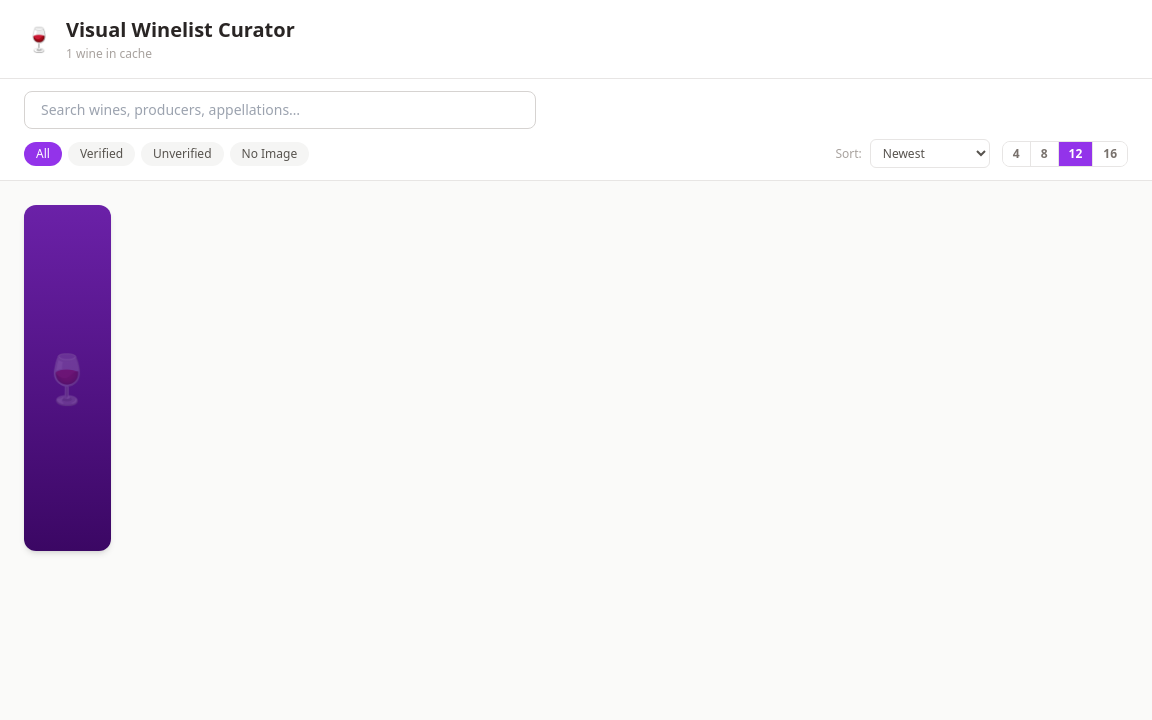
it: shows actionError when deleteWine rejects
Click the button named "Test Wine": [67, 378] box [24,205,110,551]
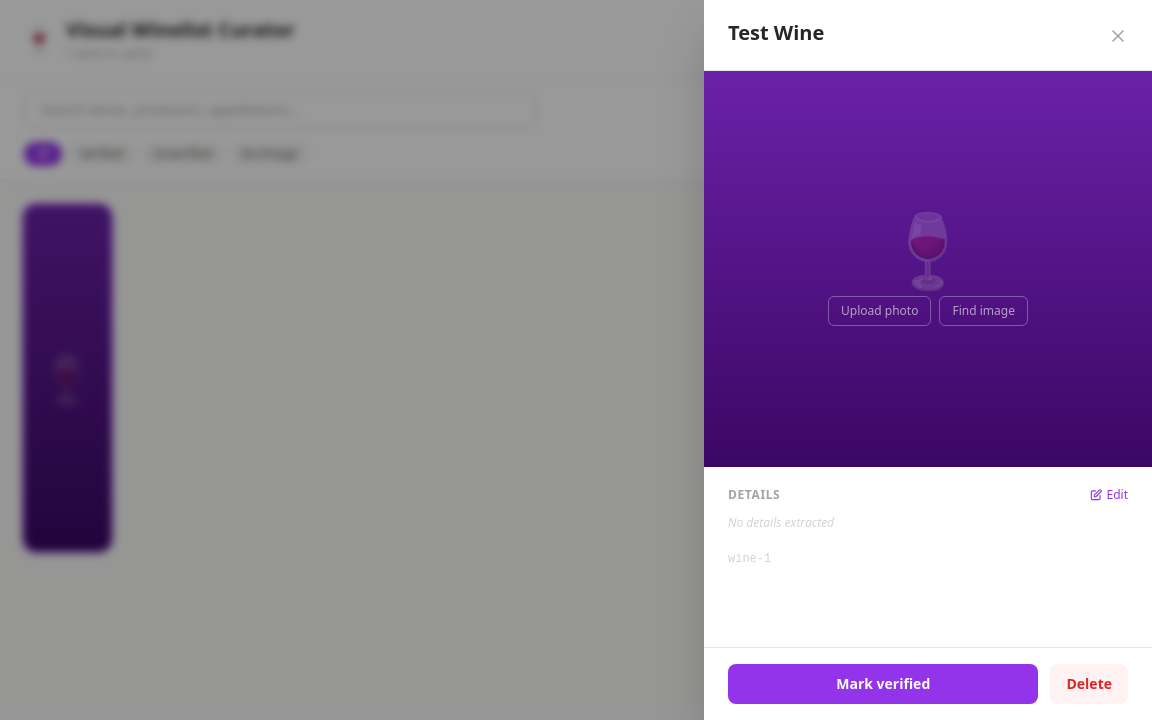
Click the button "Delete": [1089, 684] box [1050,664,1128,704]
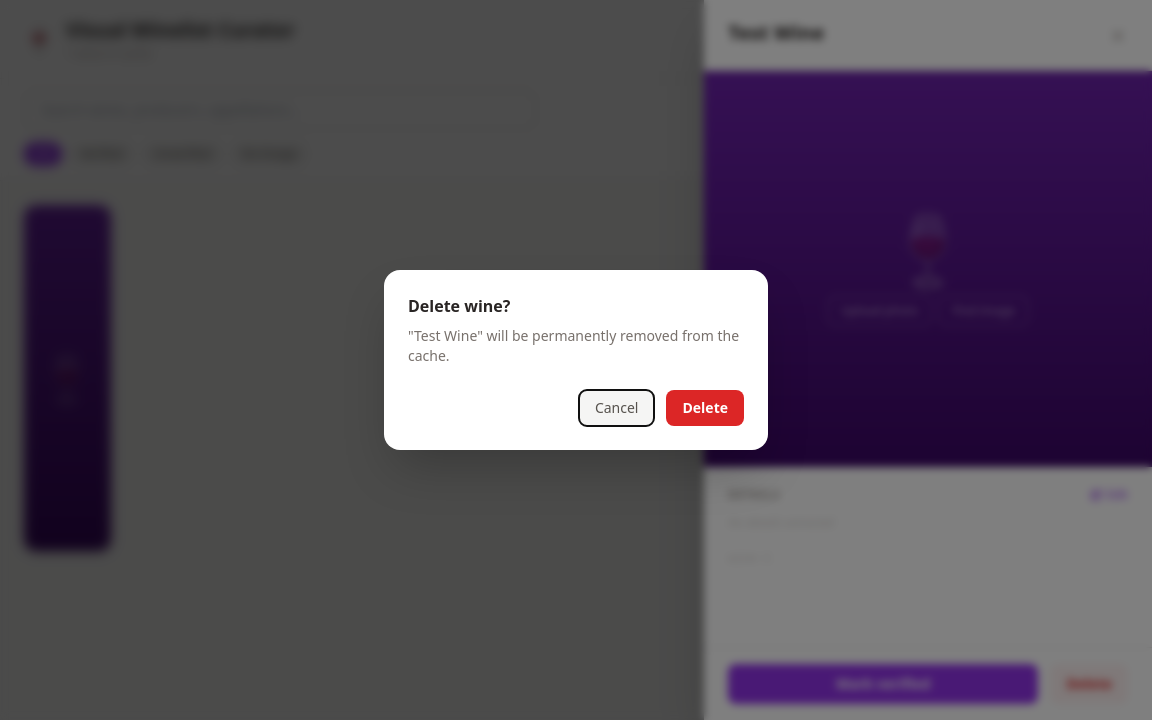
Click the button "Delete": [705, 408] box [666,390,744,426]
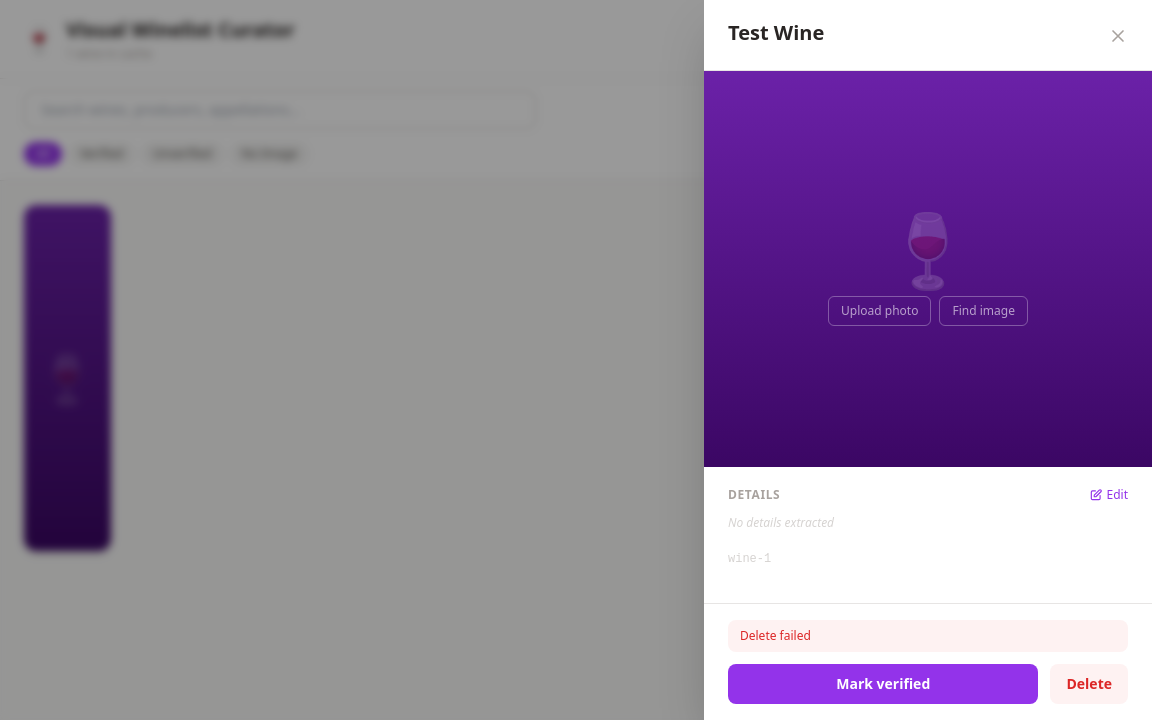
Expected: the text "Delete failed" is shown, [728,620,1128,652]
